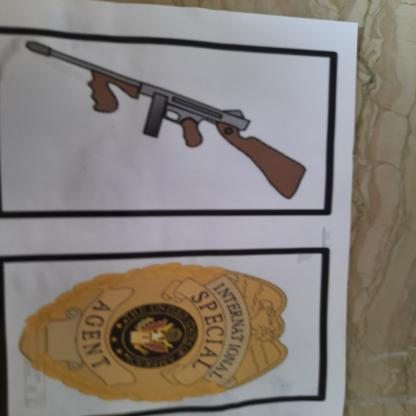Bootlegger: (17, 33, 308, 205)
G-man: (16, 257, 308, 416)
